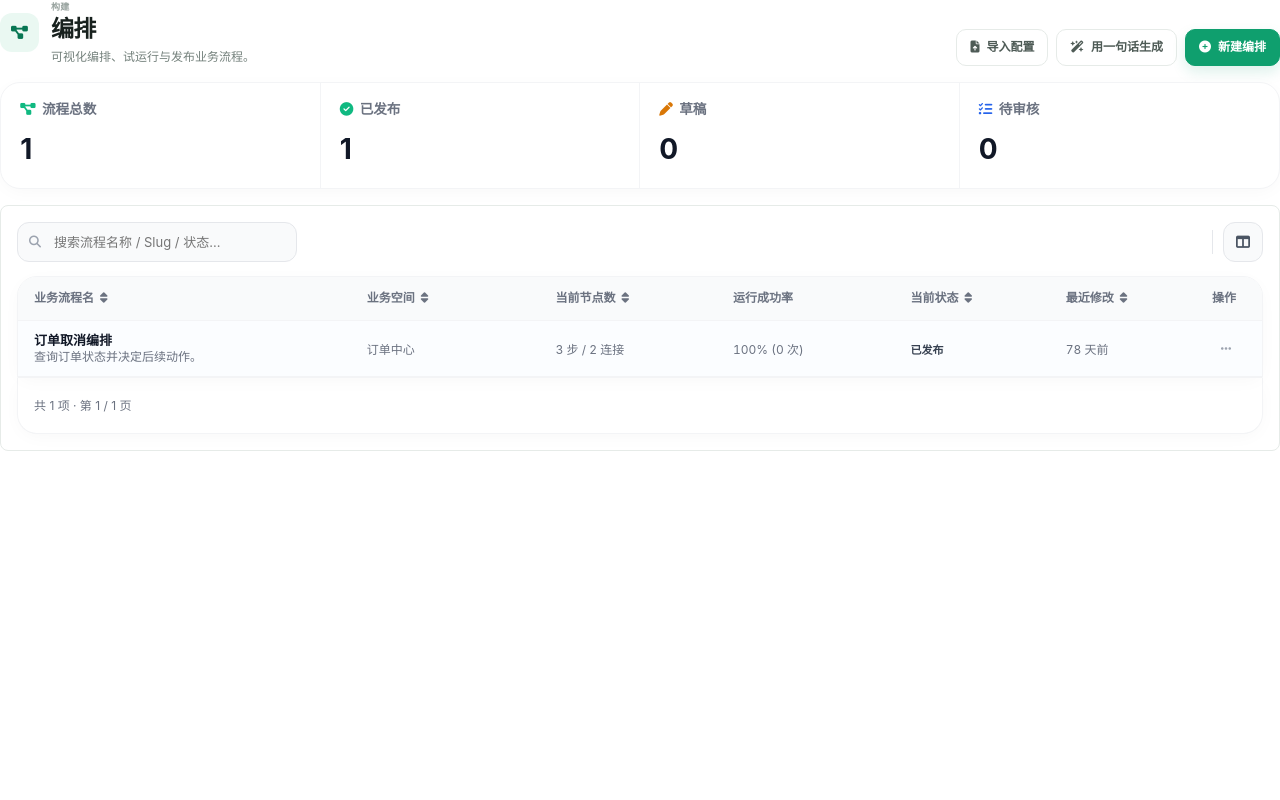
Test: workflow view P1.4 › loads revision diff and disables new runs from the detail drawer
The width and height of the screenshot is (1280, 800).
Click the button named "更多编排操作" at (1226, 349), box 1208,331 -> 1244,367
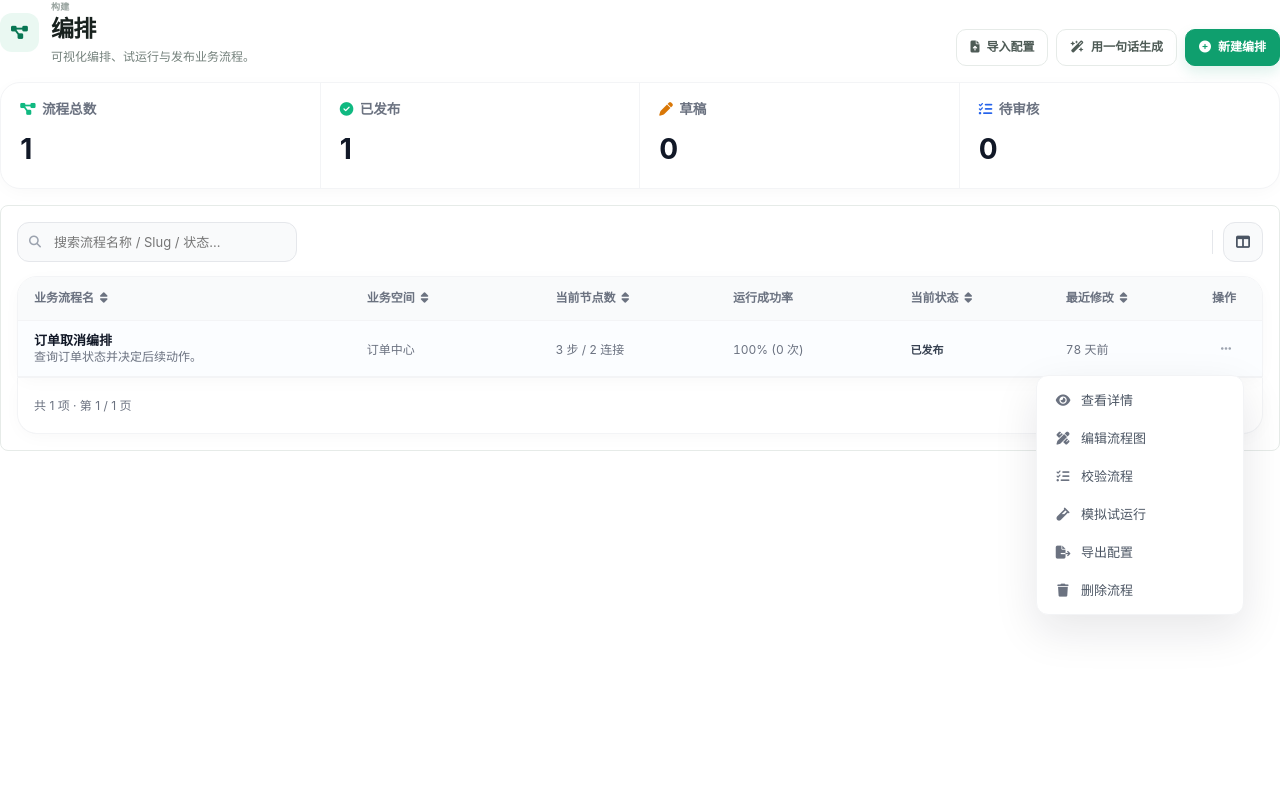
Click the menu item "查看详情" at (1140, 400), box 1043,382 -> 1237,418
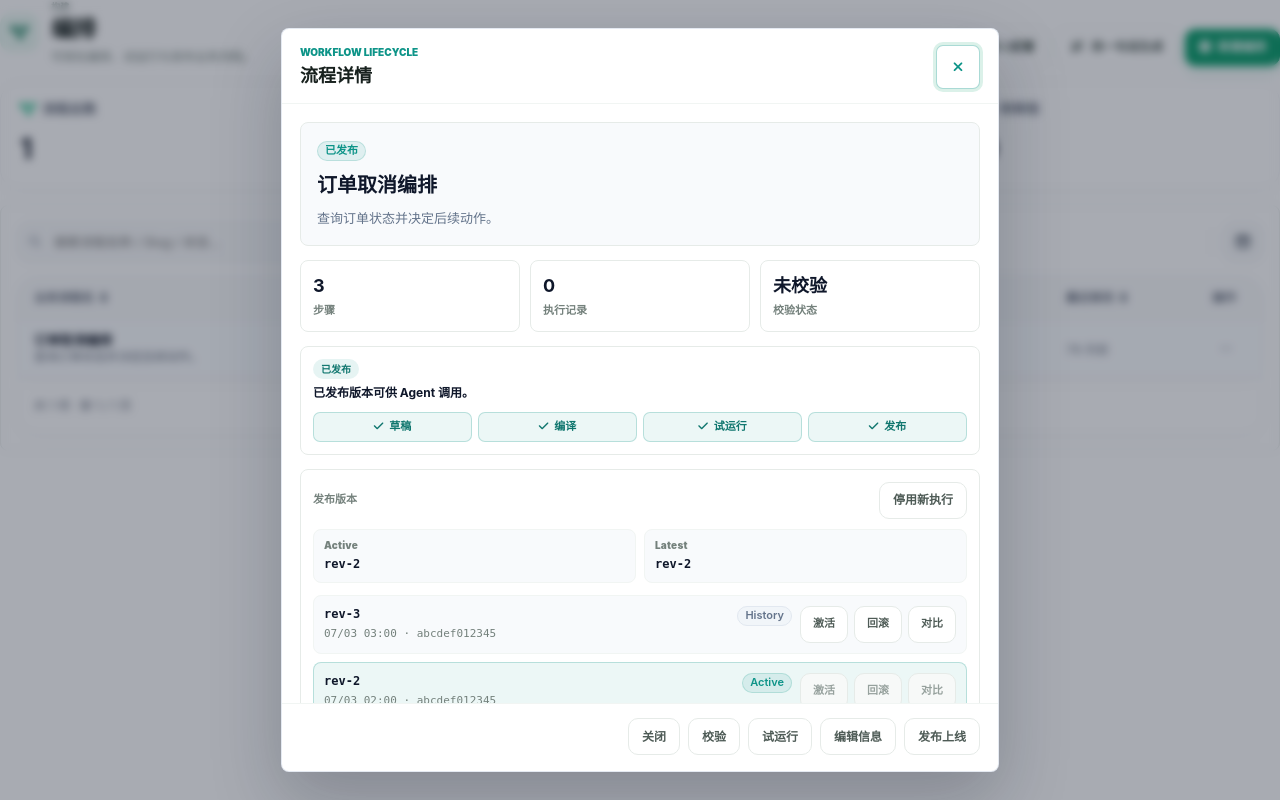
Expected: the text "发布版本" is shown, 313,385 -> 474,400
Expected: the text "停用新执行" is shown, 879,482 -> 967,519
Click the button "对比" in the row of "History" at (932, 624), box 908,606 -> 956,643
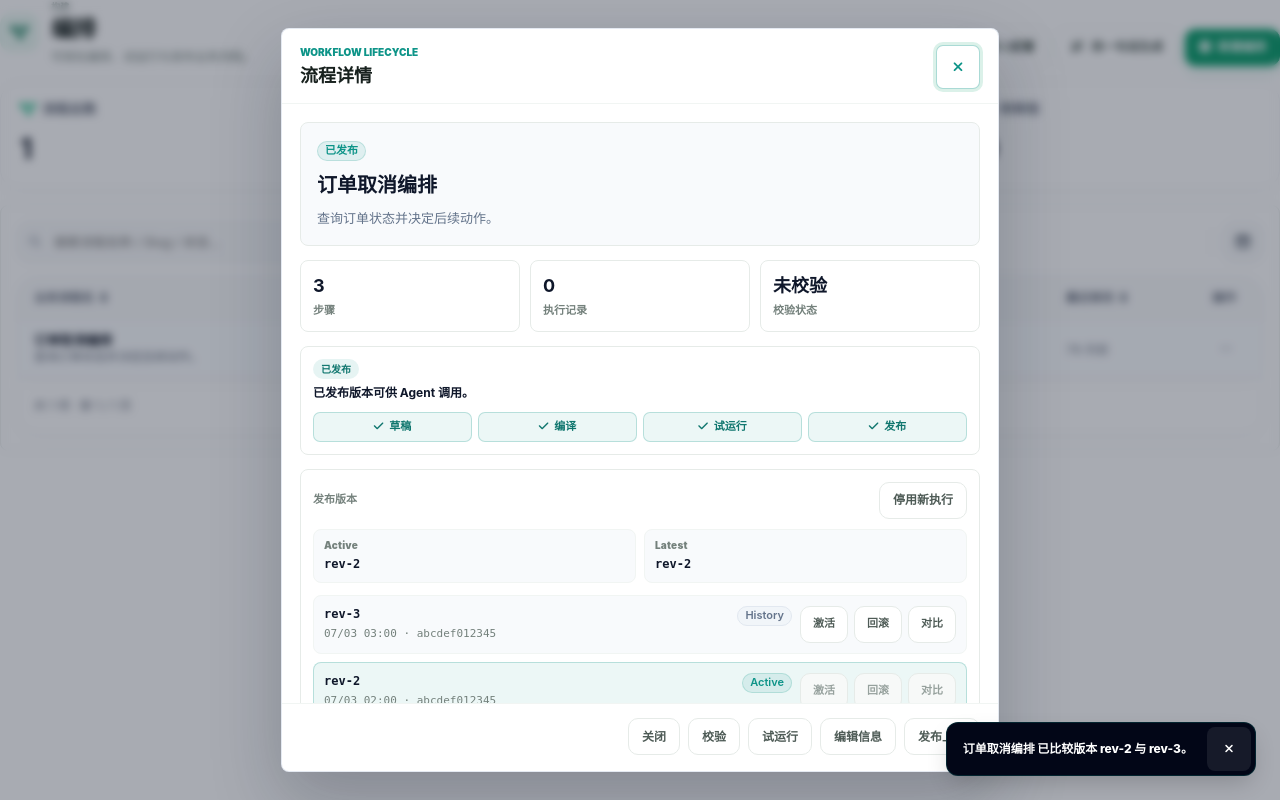
Expected: the button "停用新执行" is shown
Click the button "停用新执行" at (923, 500), box 879,482 -> 967,519
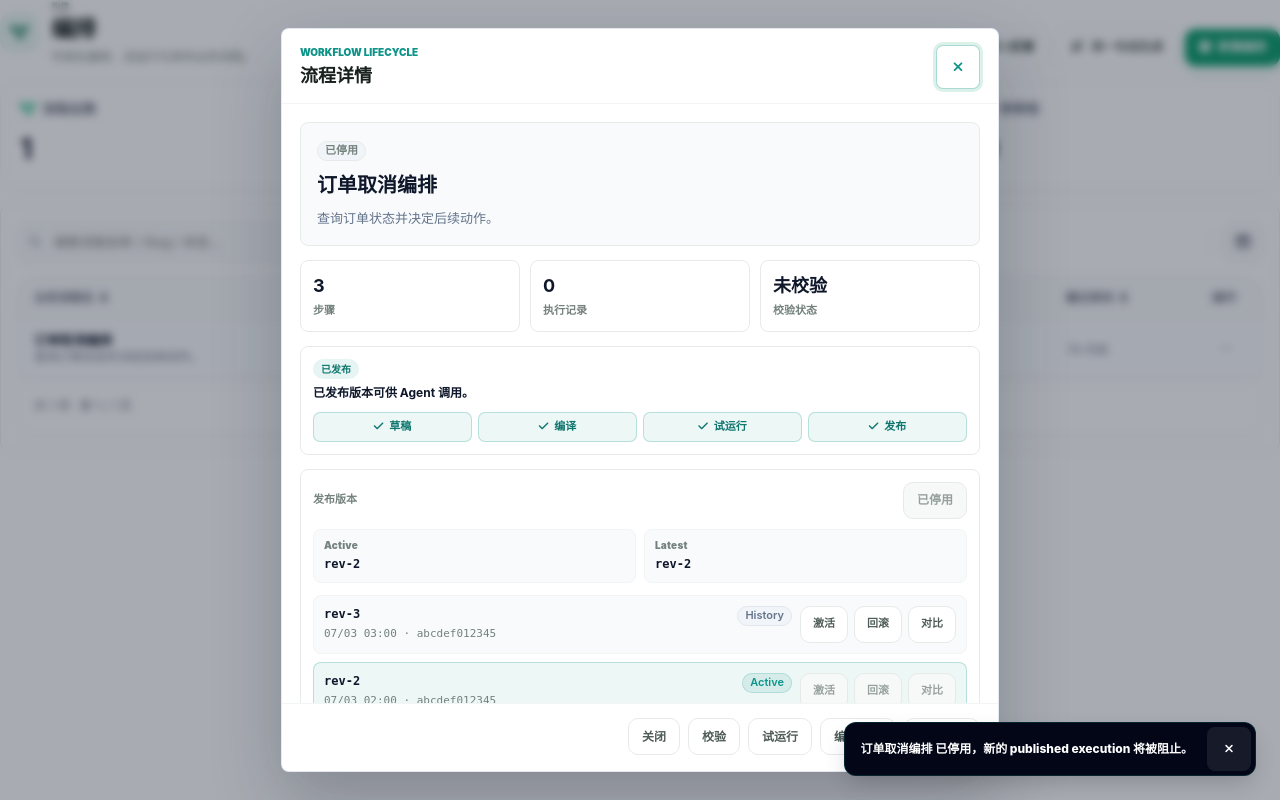
Expected: the text "已停用" is shown, 910,342 -> 943,356
Expected: the text "新的 published execution 将被阻止" is shown, 860,741 -> 1193,756
